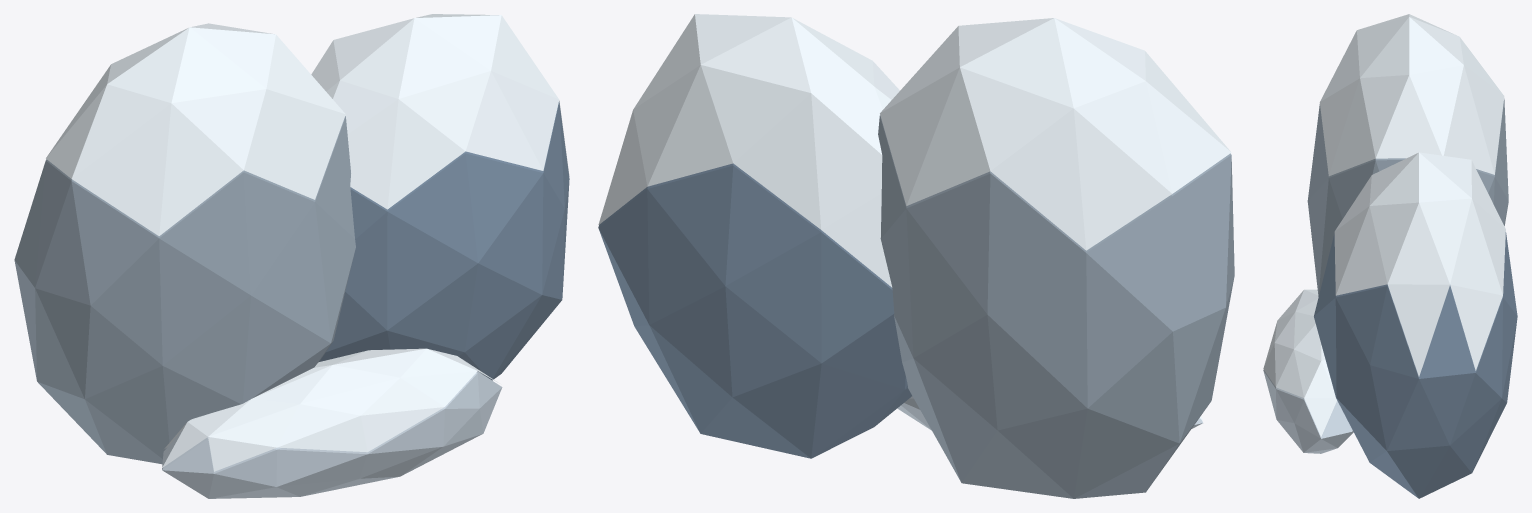
File: cliff-face-snowy.glb
The picture shows the model from 3 angles, left to right: view 1: azimuth 30°, elevation 25°; view 2: azimuth 150°, elevation 25°; view 3: azimuth 270°, elevation 25°; orthographic projection. The views are drawn at different scales.
Visible parts, largest first — view 1: cliff-face-kit-snowy-top, cliff-face-kit-snowy-stone, cliff-face-kit-snowy-shade, cliff-face-kit-snowy-light; view 2: cliff-face-kit-snowy-top, cliff-face-kit-snowy-stone, cliff-face-kit-snowy-shade; view 3: cliff-face-kit-snowy-top, cliff-face-kit-snowy-shade, cliff-face-kit-snowy-stone, cliff-face-kit-snowy-light.
Boxes of the visible parts, <box> form: cliff-face-kit-snowy-top: <box>46,14,569,471</box>; cliff-face-kit-snowy-stone: <box>14,116,355,464</box>; cliff-face-kit-snowy-shade: <box>319,101,569,380</box>; cliff-face-kit-snowy-light: <box>162,371,502,498</box>; cliff-face-kit-snowy-top: <box>598,14,1231,420</box>; cliff-face-kit-snowy-stone: <box>878,115,1234,498</box>; cliff-face-kit-snowy-shade: <box>598,163,911,458</box>; cliff-face-kit-snowy-top: <box>1263,14,1505,436</box>; cliff-face-kit-snowy-shade: <box>1314,232,1517,498</box>; cliff-face-kit-snowy-stone: <box>1307,98,1508,296</box>; cliff-face-kit-snowy-light: <box>1263,370,1353,453</box>.
Size of the model in its own units: 4.22 by 3.3 by 2.08.
